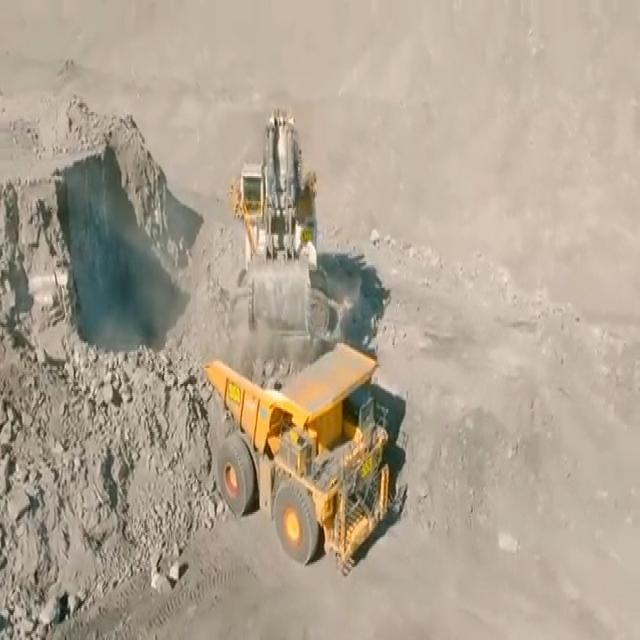dump_truck: (203, 347, 391, 569)
excavator: (238, 109, 325, 338)
